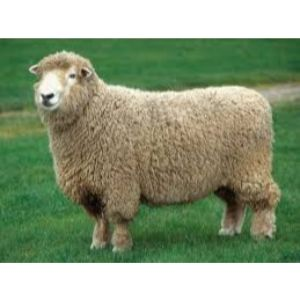sheep: (28, 46, 234, 252)
